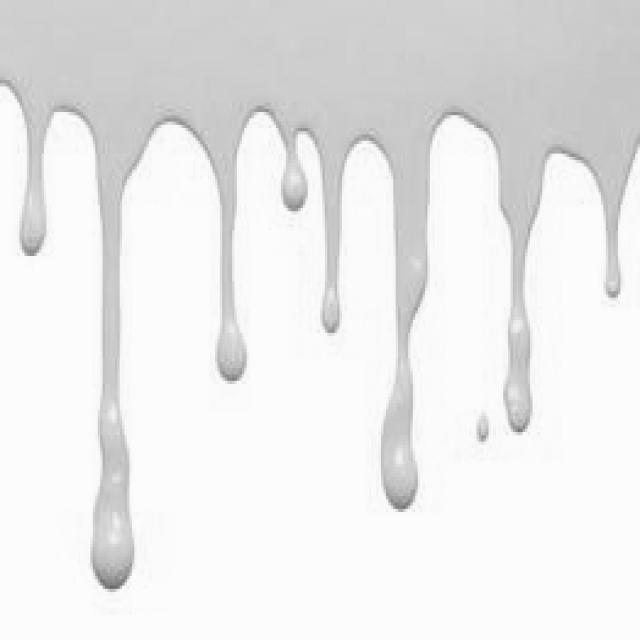paint drips: (16, 22, 186, 606), (371, 32, 548, 525), (472, 42, 640, 449), (197, 19, 358, 408)
